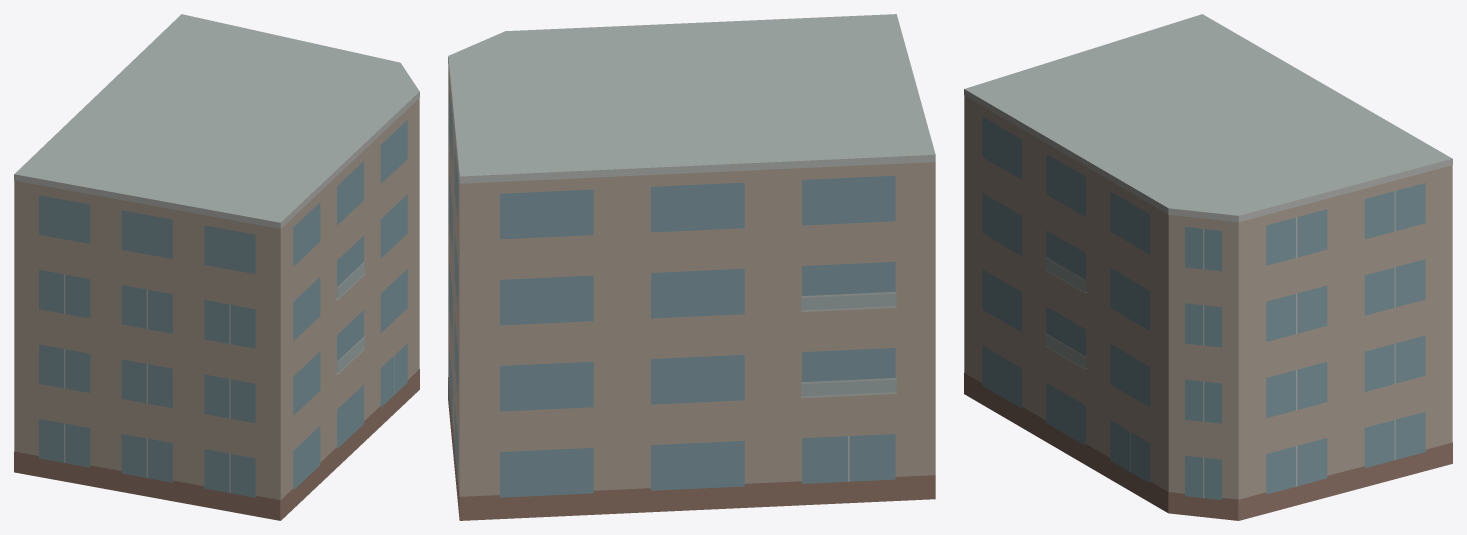
Rendered from survey-upis-32741717.glb.
3 views of the same model, side by side, from view 1: azimuth 30°, elevation 25°; view 2: azimuth 150°, elevation 25°; view 3: azimuth 270°, elevation 25° (orthographic). The views are drawn at different scales.
Parts seen in each view (by area): view 1: survey-upis-32741717.tmp; view 2: survey-upis-32741717.tmp; view 3: survey-upis-32741717.tmp.
Boxes of the visible parts, left/top/right/bottom form: survey-upis-32741717.tmp: left=14, top=14, right=419, bottom=520; survey-upis-32741717.tmp: left=448, top=14, right=935, bottom=520; survey-upis-32741717.tmp: left=964, top=14, right=1452, bottom=520.
Size of the model in its own units: 16.47 by 11.6 by 16.85.
